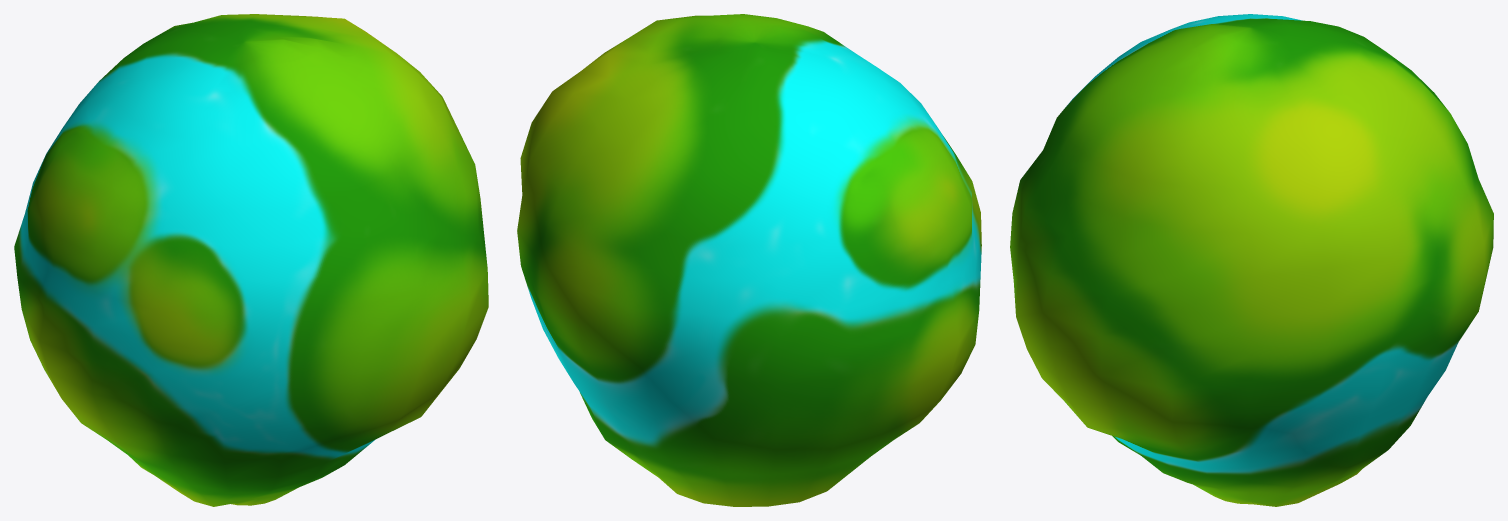
File: planet_1.fbx
3 renders of one model, left to right at view 1: azimuth 30°, elevation 25°; view 2: azimuth 150°, elevation 25°; view 3: azimuth 270°, elevation 25°, orthographic. The views are drawn at different scales.
Visible parts, largest first — view 1: plane_1_low_pSphere6; view 2: plane_1_low_pSphere6; view 3: plane_1_low_pSphere6.
Boxes of the visible parts, x1=… form: plane_1_low_pSphere6: x1=14, y1=14, x2=488, y2=506; plane_1_low_pSphere6: x1=517, y1=14, x2=981, y2=506; plane_1_low_pSphere6: x1=1010, y1=14, x2=1493, y2=506.
Bounding box in the file's own units: 24.7 × 25.55 × 24.17.
1 material, 1 textured.
